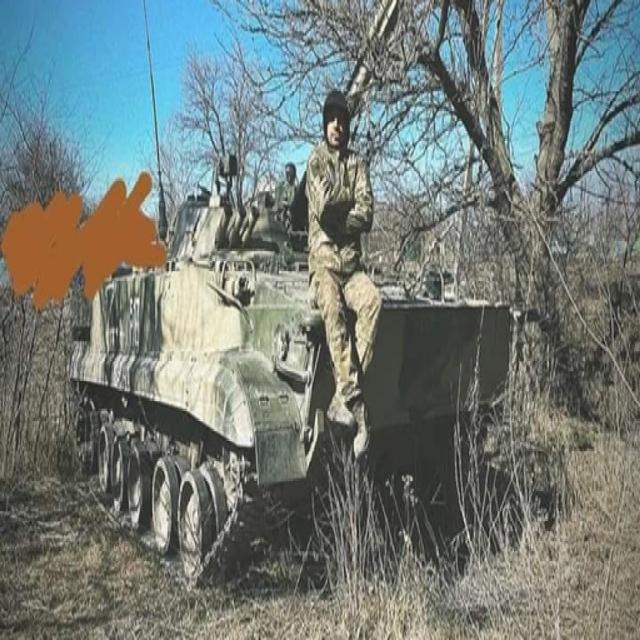APC-IFV: (66, 0, 518, 589)
